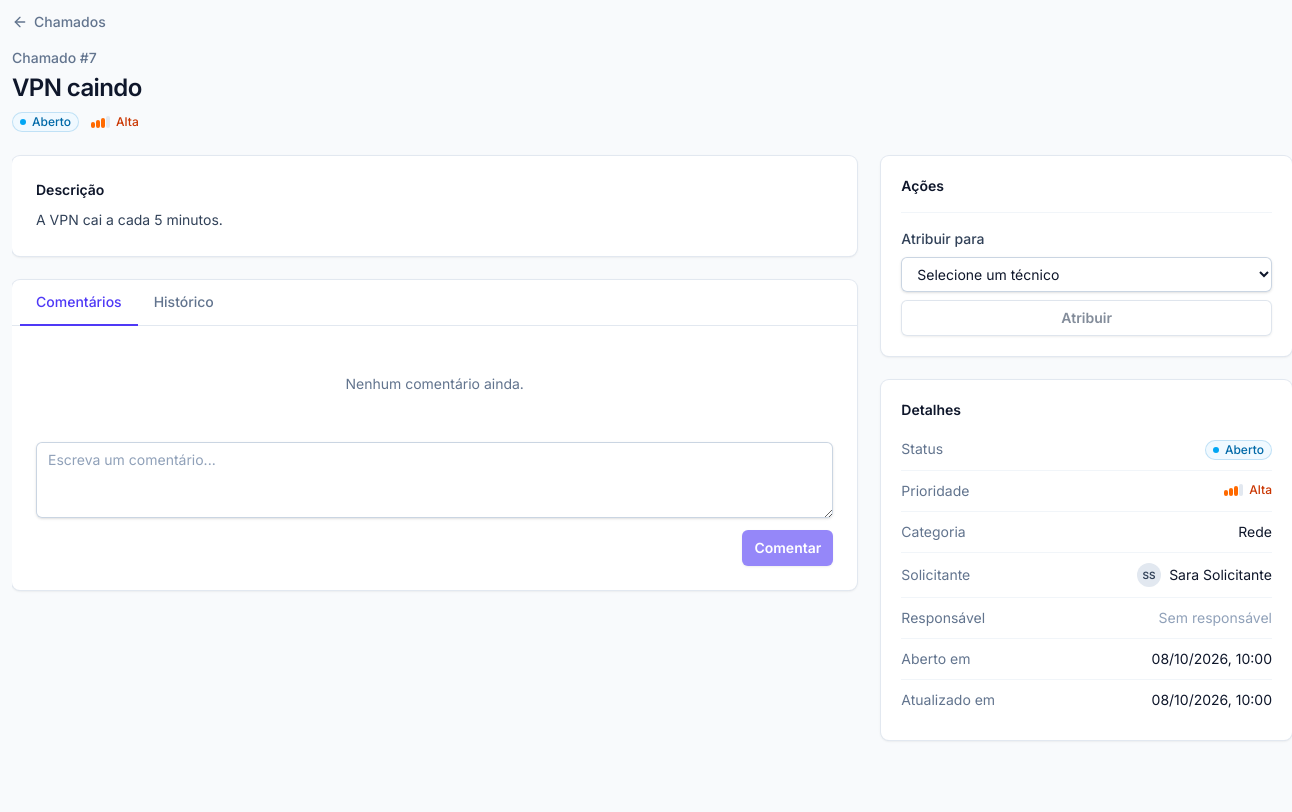
Test: TicketDetailPage › admin atribui escolhendo um técnico
Select "Tiago Técnico" in the dropdown labelled "Atribuir para" at (1087, 274), box [901,257,1272,292]
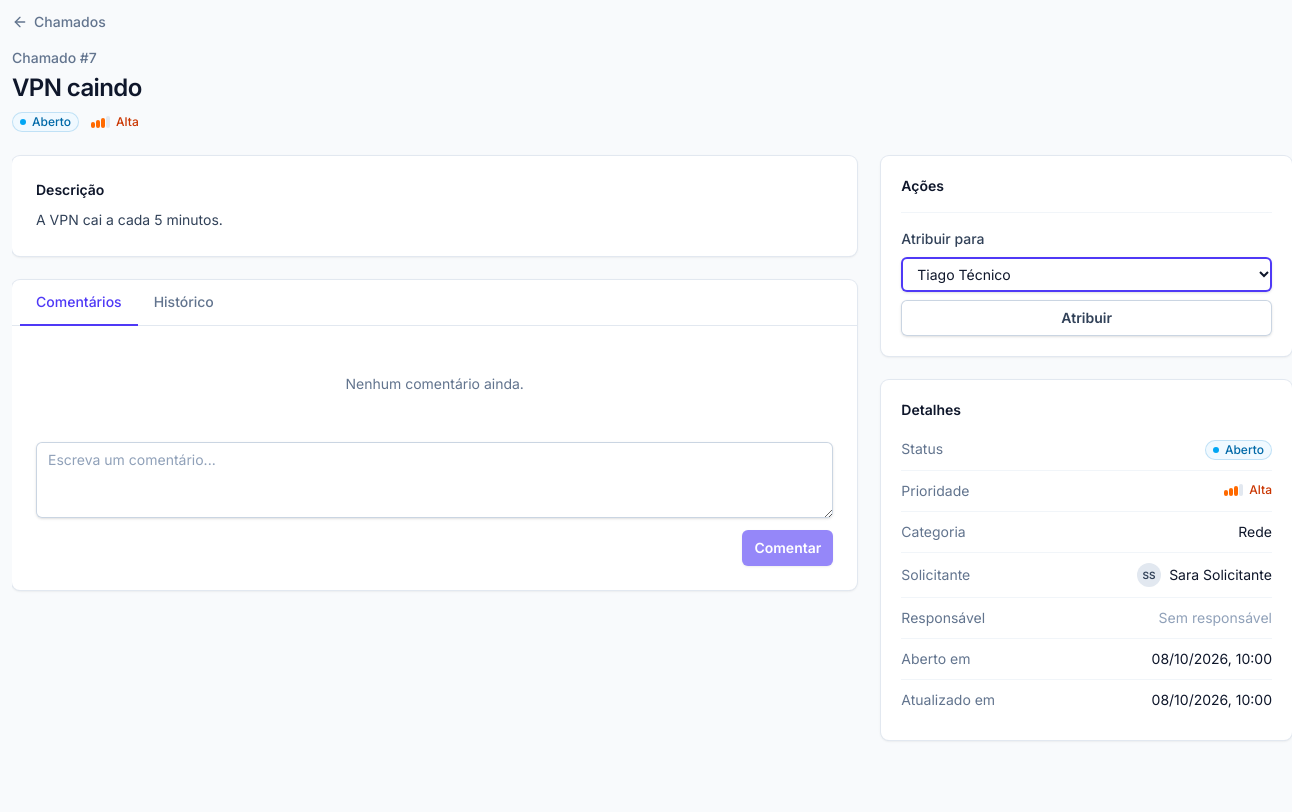
Click the button "Atribuir" at (1087, 318), box [901,300,1272,336]
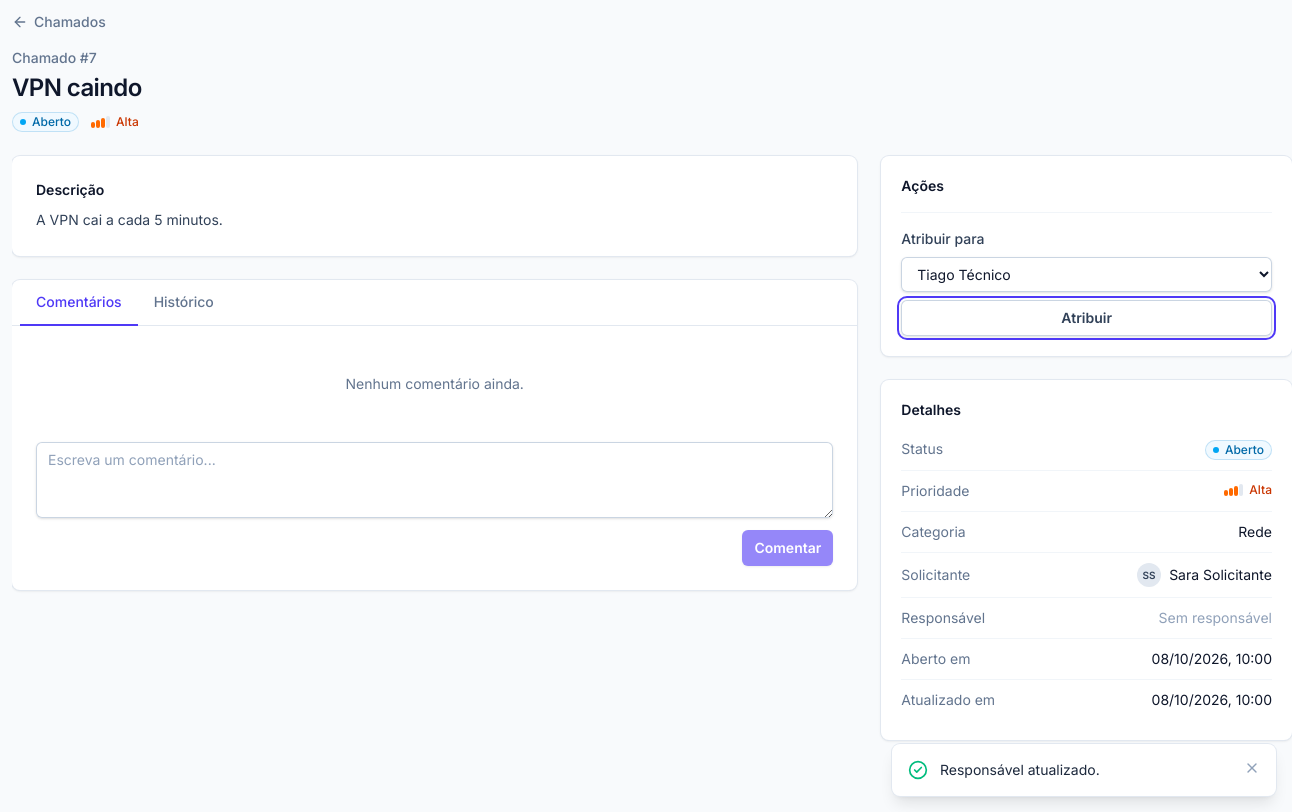
Expected: the text "Responsável atualizado." is shown, [940,761,1100,778]
